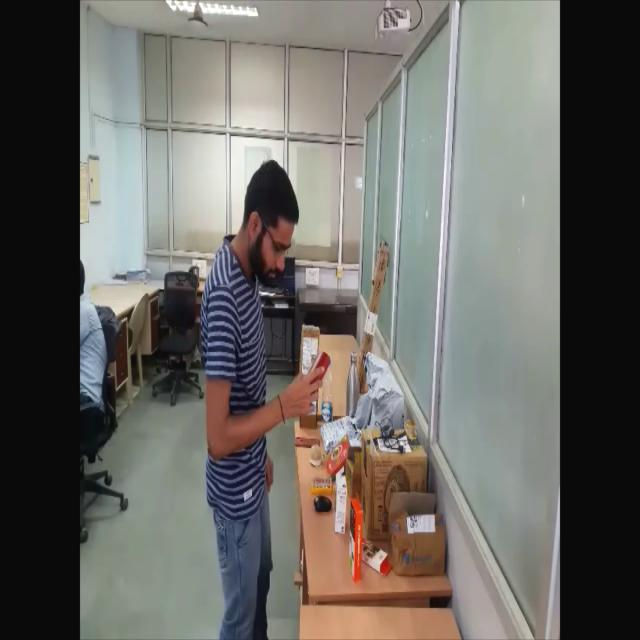normal: (194, 159, 339, 640)
